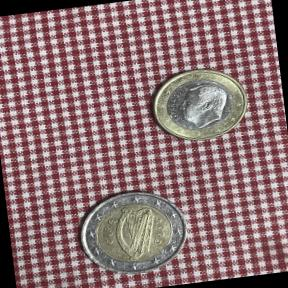coin: (70, 182, 196, 284), (144, 62, 255, 152)
